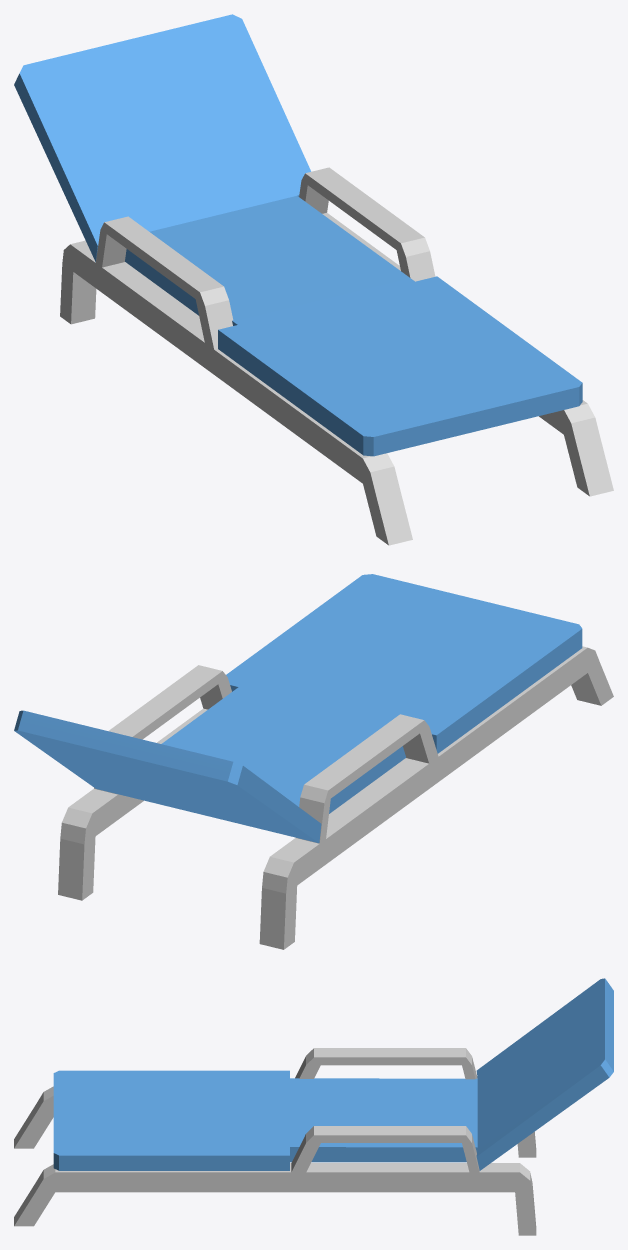
The model's file is Garden Deckchair.glb.
The picture shows the model from 3 angles, top to bottom: view 1: azimuth 30°, elevation 25°; view 2: azimuth 150°, elevation 25°; view 3: azimuth 270°, elevation 25°; orthographic projection. The views are drawn at different scales.
Parts seen in each view (by area): view 1: Deckchair; view 2: Deckchair; view 3: Deckchair.
Part boxes in pixels (x1,y1,x2,y2): Deckchair: [14, 14, 613, 545]; Deckchair: [14, 574, 613, 949]; Deckchair: [14, 978, 613, 1235].
Size of the model in its own units: 1 by 0.9255 by 2.91.
Materials: 1 (1 with a texture image).
